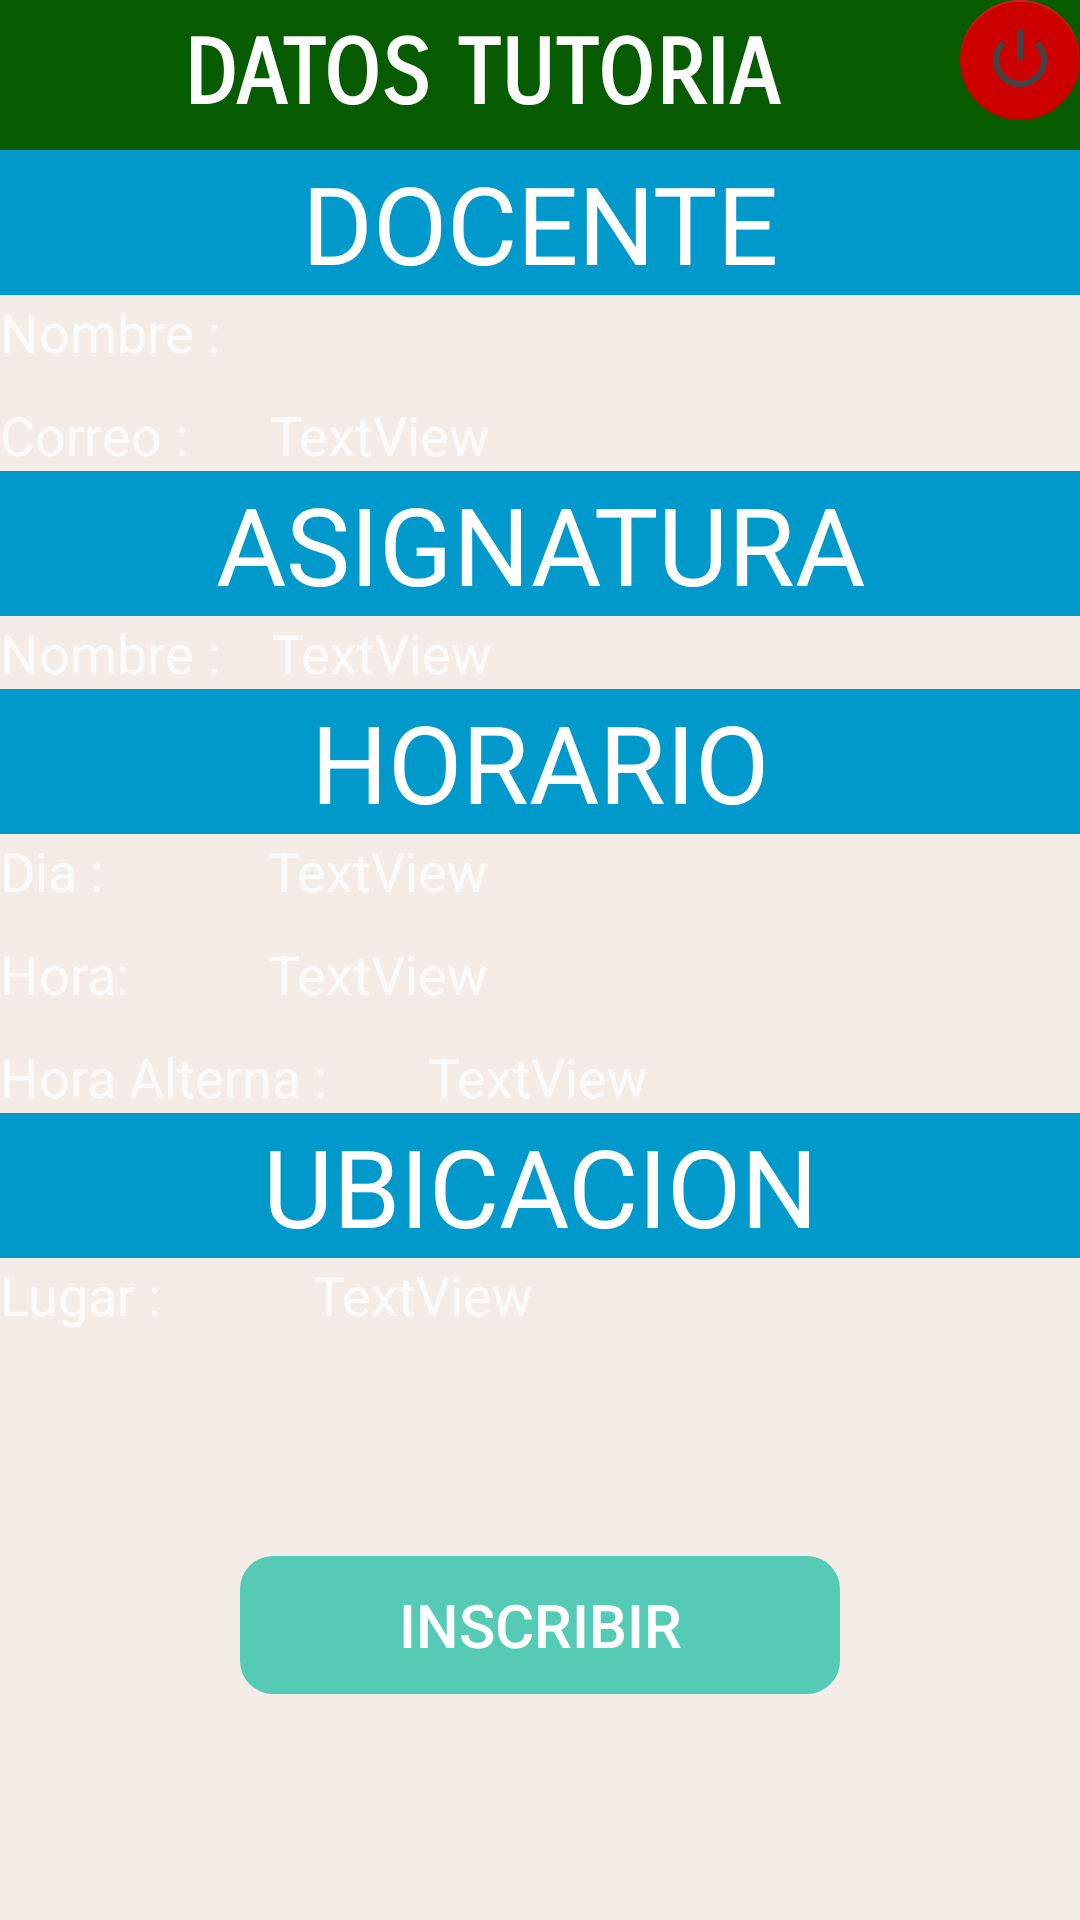

Where to tap for icons on this 1080px×1920px app screen, as (x,y):
lock power off: (1020,60)
